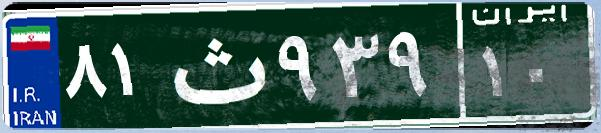0: (525, 38, 570, 115)
1: (475, 38, 525, 113), (110, 28, 158, 105)
3: (330, 28, 385, 110)
8: (57, 26, 110, 107)
9: (385, 28, 445, 110), (273, 28, 330, 110)
ث: (158, 15, 273, 115)
